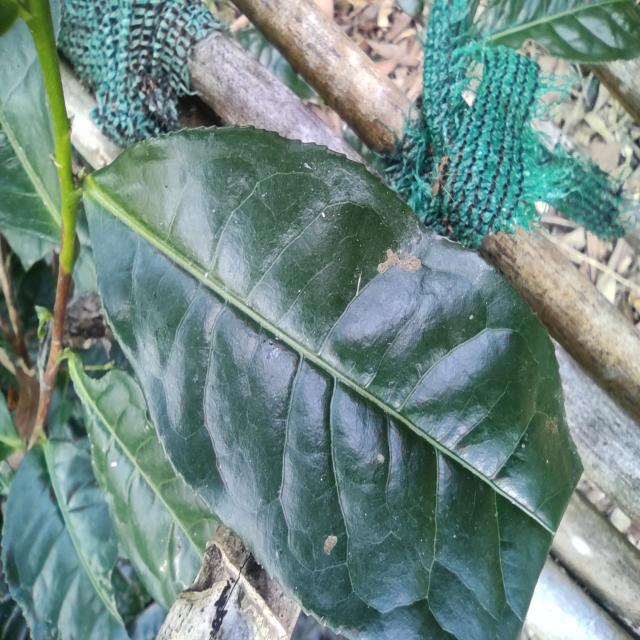Category D 7+ days, Not for Tea: (75, 117, 591, 640)
